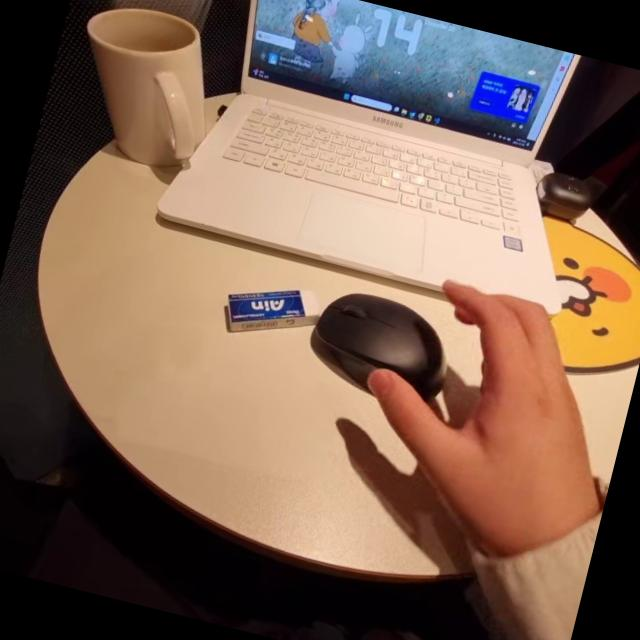eraser: (225, 266, 314, 348)
hand: (352, 237, 636, 564)
mouse: (302, 280, 462, 414)
